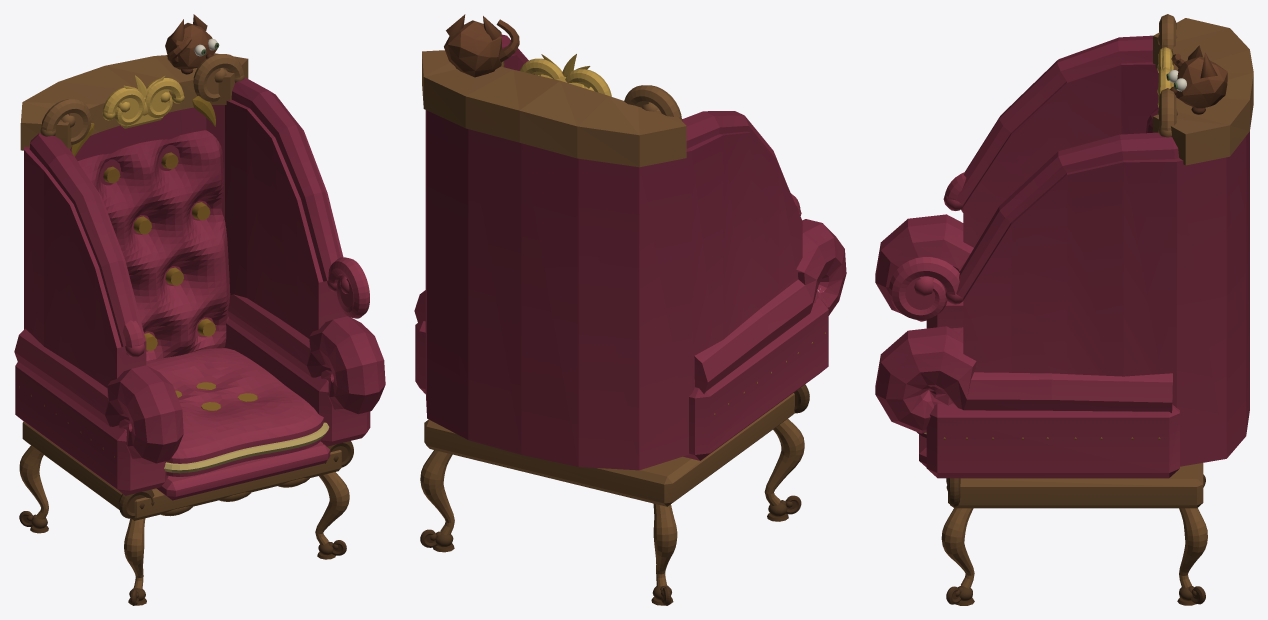
File: chair-wingback.glb
The picture shows the model from 3 angles, left to right: view 1: azimuth 30°, elevation 25°; view 2: azimuth 150°, elevation 25°; view 3: azimuth 270°, elevation 25°; orthographic projection. The views are drawn at different scales.
Parts seen in each view (by area): view 1: chair_wingback; view 2: chair_wingback; view 3: chair_wingback.
Part boxes in pixels (box(x1,y1,x2,y2)): chair_wingback: box(14, 14, 385, 605); chair_wingback: box(414, 14, 846, 605); chair_wingback: box(875, 14, 1253, 605).
Size of the model in its own units: 0.8678 by 1.54 by 0.986.
